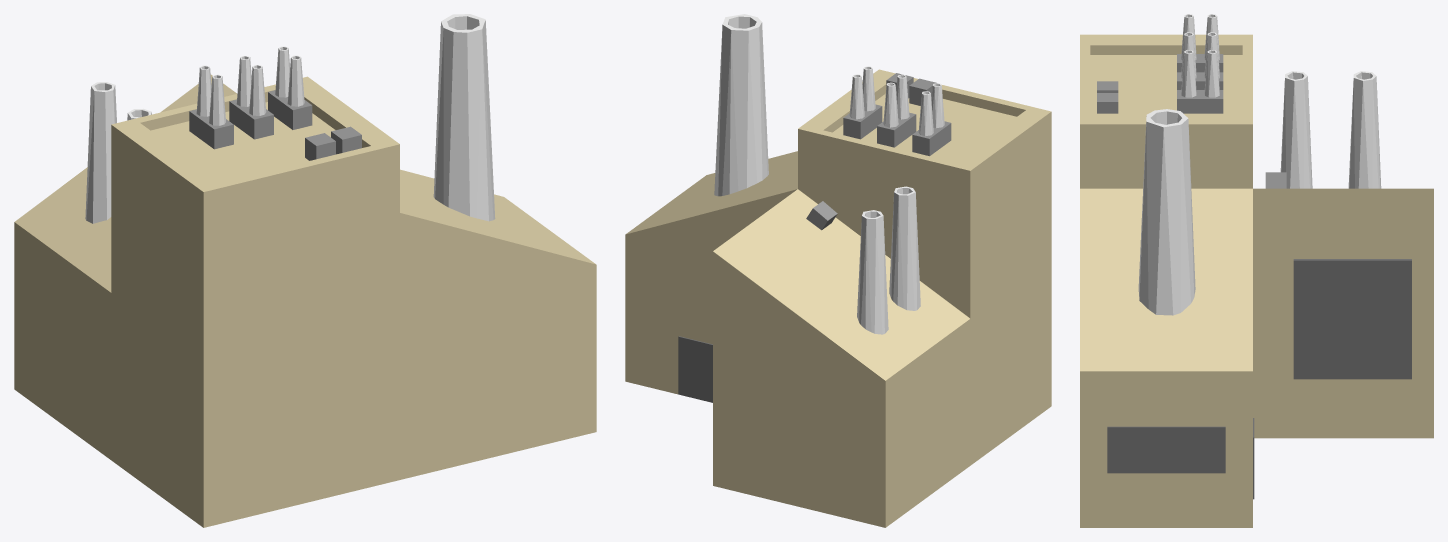
File: factory.fbx
3 renders of one model, left to right at view 1: azimuth 30°, elevation 25°; view 2: azimuth 150°, elevation 25°; view 3: azimuth 270°, elevation 25°, orthographic. The views are drawn at different scales.
Visible parts, largest first — view 1: Cube, Cylinder.008, Cube.003; view 2: Cube, Cylinder.008, Cube.003, Cube.002; view 3: Cube, Cube.002, Cylinder.008, Cube.003.
Boxes of the visible parts, x1=… form: Cube: x1=14, y1=74, x2=596, y2=527; Cylinder.008: x1=85, y1=14, x2=495, y2=223; Cube.003: x1=189, y1=90, x2=361, y2=160; Cube: x1=625, y1=69, x2=1051, y2=527; Cylinder.008: x1=714, y1=14, x2=944, y2=334; Cube.003: x1=806, y1=73, x2=951, y2=230; Cube.002: x1=678, y1=336, x2=712, y2=402; Cube: x1=1080, y1=34, x2=1433, y2=527; Cube.002: x1=1107, y1=259, x2=1411, y2=499; Cylinder.008: x1=1138, y1=14, x2=1381, y2=315; Cube.003: x1=1097, y1=54, x2=1286, y2=188.
Bounding box in the file's own units: 493 × 473 × 409.
